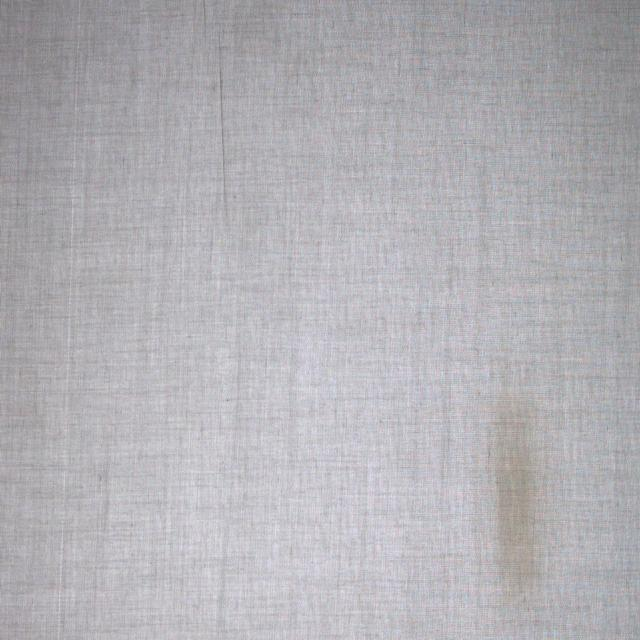dirty: (493, 397, 537, 595)
